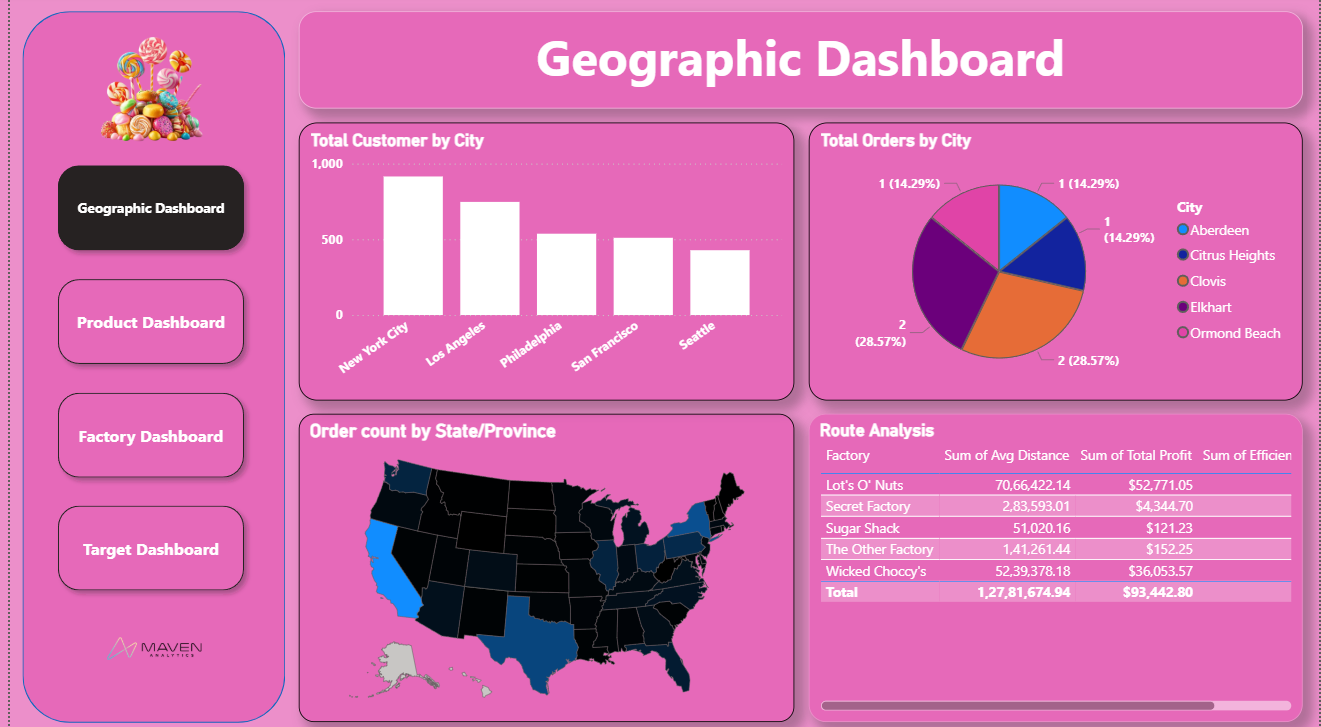

What the dashboard file says about the page in this screenshot:
{"tool":"powerbi","page":{"name":"Geographic Dashboard","canvas":[1280,720],"ordinal":1},"visuals":[{"type":"textbox","box":[282.6,15.3,982.1,95.3],"z":0},{"type":"shapeMap","title":"Order count by State/Province","fields":{"Category":["cleaned_sales.State/Province"],"Value":["CountNonNull(cleaned_sales.Order ID)"]},"box":[282.6,410.2,485.1,301.3],"z":1000},{"type":"clusteredColumnChart","title":"Total Customer by City","fields":{"Category":["cleaned_sales.City"],"Y":["CountNonNull(cleaned_sales.Customer ID)"]},"box":[282.6,124.3,485.1,272.3],"z":2000},{"type":"pieChart","title":"Total Orders by City","fields":{"Y":["CountNonNull(cleaned_sales.Order ID)"],"Series":["cleaned_sales.City"]},"box":[781.3,124.3,483.4,272.3],"z":3000},{"type":"tableEx","title":"Route Analysis","fields":{"Values":["Route Analysis.Factory","Sum(Route Analysis.Avg Distance)","Sum(Route Analysis.Total Profit)","Sum(cleaned_sales.Efficiency (Profit/KM))"]},"box":[781.3,410.2,483.4,301.3],"z":4000},{"type":"group","id":"g1","title":"Group 1","box":[11.9,15.3,257,696.2],"z":4001},{"type":"shape","box":[11.9,15.3,257,696.2],"z":7000,"group":"g1"},{"type":"pageNavigator","box":[37.6,157.7,200.9,435.7],"z":9000,"group":"g1"},{"type":"image","box":[78.3,32.3,119.1,117.4],"z":11000,"group":"g1"},{"type":"image","box":[90.2,583.8,102.1,108.9],"z":11500,"group":"g1"}]}

Visuals, with their boxes in screenshot pixels (x1, y1, x2, y2), scaled from the page's 1280x720 canvas onto the 1321x727 screenshot:
textbox: (292,15,1305,112)
"Order count by State/Province" shapeMap: (292,414,792,718)
"Total Customer by City" clusteredColumnChart: (292,126,792,400)
"Total Orders by City" pieChart: (806,126,1305,400)
"Route Analysis" tableEx: (806,414,1305,718)
"Group 1" group: (12,15,278,718)
shape: (12,15,278,718)
pageNavigator: (39,159,246,599)
image: (81,33,204,151)
image: (93,589,198,699)
